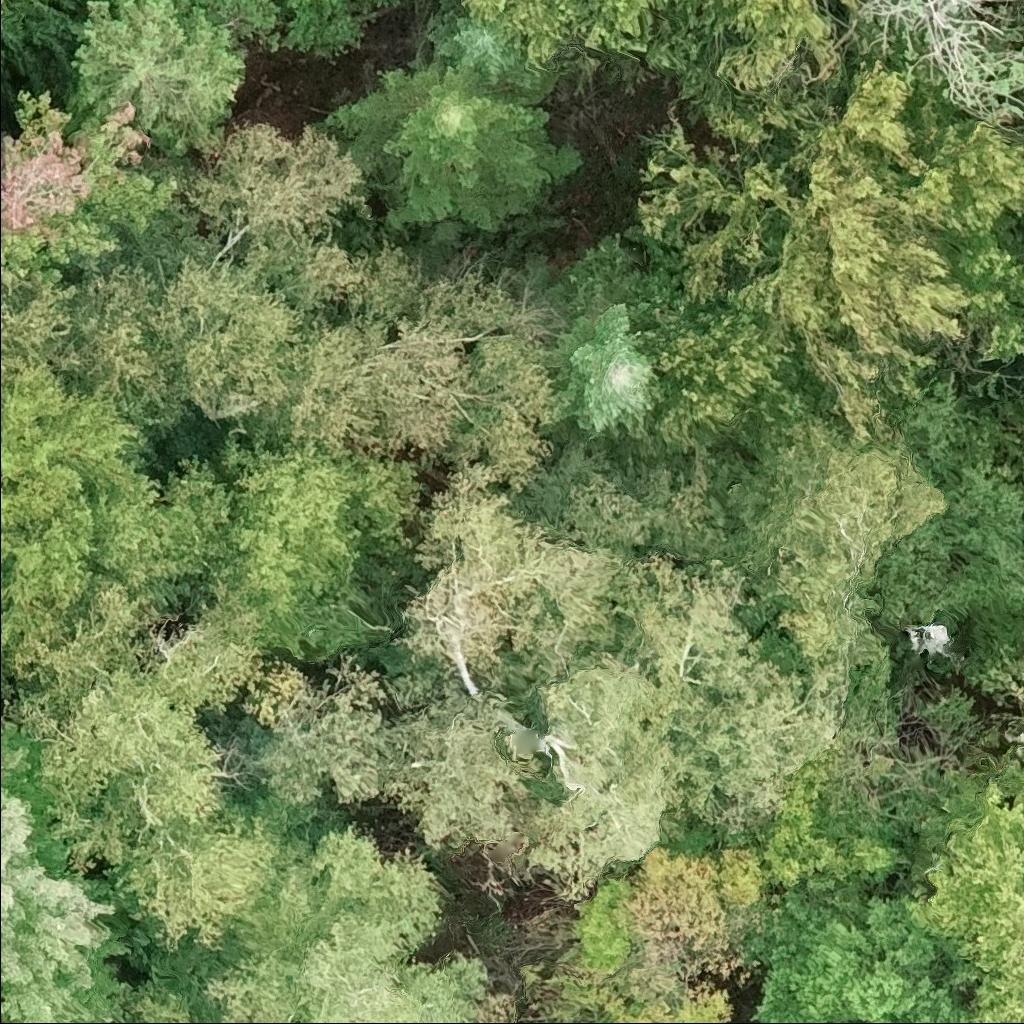crown: (633, 57, 1023, 443), (0, 576, 299, 952), (249, 238, 569, 492), (605, 552, 848, 828), (394, 440, 673, 676), (546, 235, 834, 456), (0, 361, 234, 624), (714, 411, 952, 668), (462, 0, 862, 149), (203, 821, 487, 1023), (204, 436, 427, 656), (324, 56, 587, 235), (63, 249, 315, 432), (0, 713, 133, 1023), (181, 119, 373, 328), (526, 654, 685, 901), (0, 89, 180, 290), (745, 876, 979, 1023), (909, 755, 1023, 1023), (61, 0, 249, 156), (377, 685, 543, 850), (252, 651, 399, 811), (847, 0, 1023, 126), (548, 285, 665, 458), (420, 0, 559, 106), (200, 0, 397, 69), (0, 284, 83, 377), (0, 0, 86, 61), (0, 139, 4, 169)
